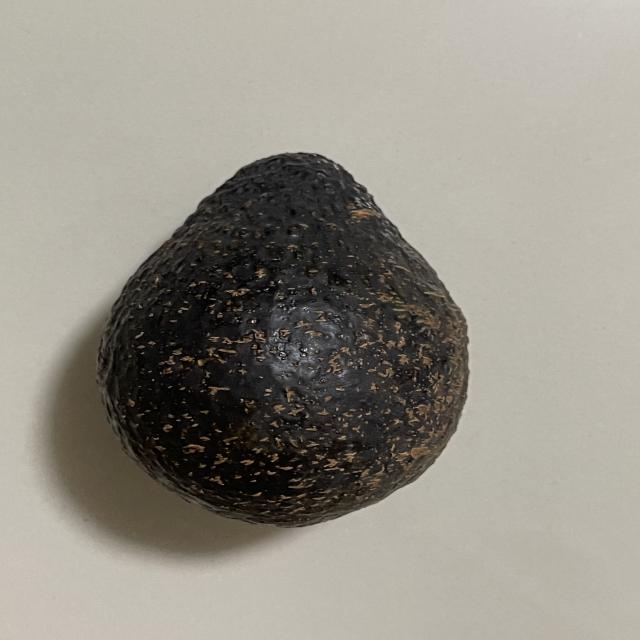Level3: (89, 143, 482, 535)
